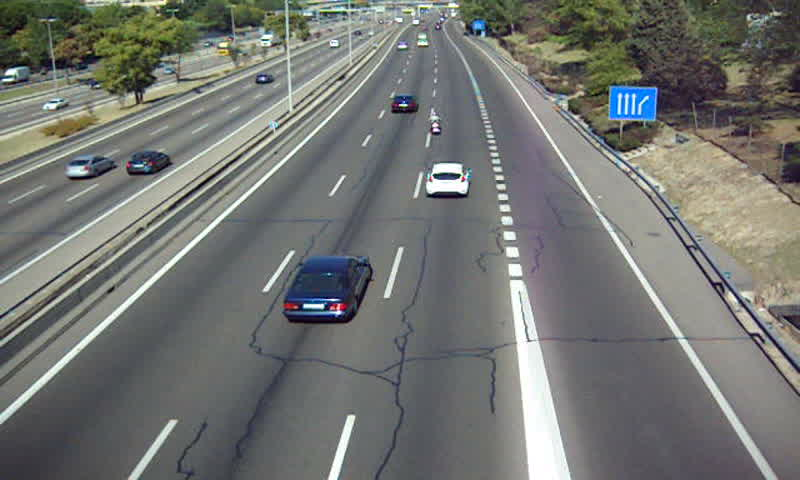car: (281, 254, 372, 322), (425, 162, 471, 197), (390, 95, 419, 113)
motorcycle: (427, 110, 444, 136)
